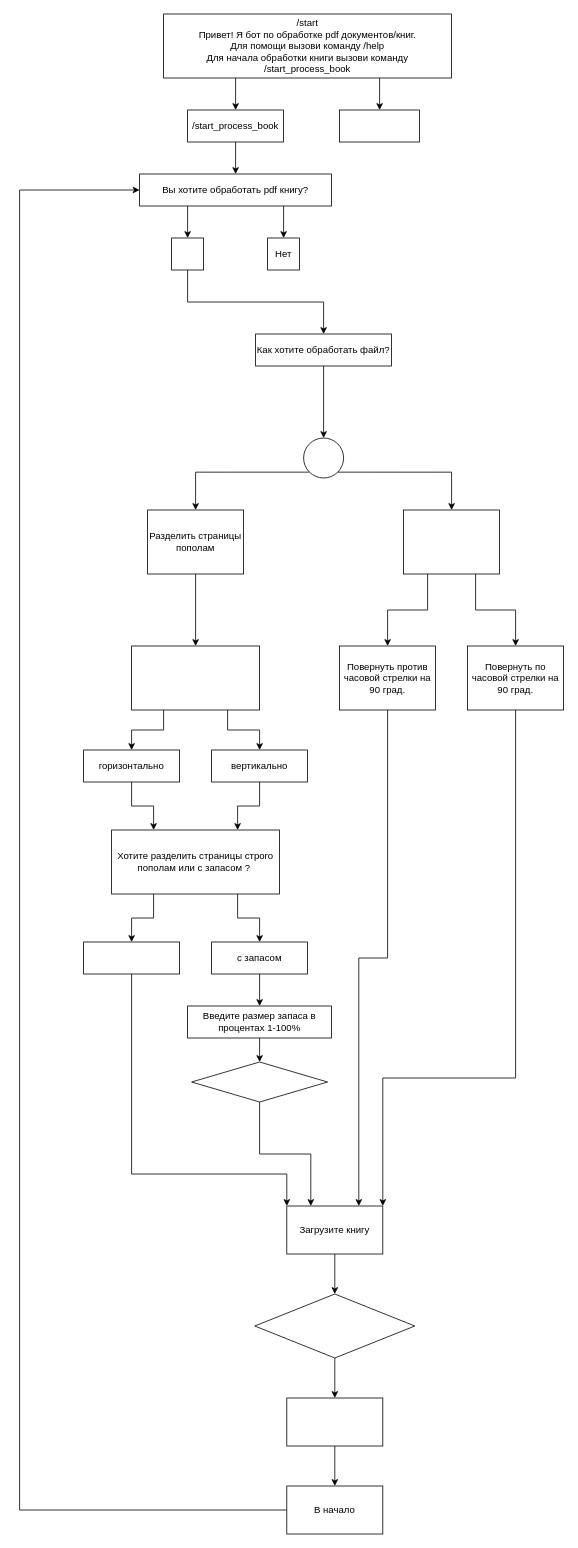
This 578x1548 diagram has some shape labels left out. The centre of each missing label's shape, as x and y in pixels:
"/help" belongs at point (379, 125).
"<Введено число>" belongs at point (259, 1081).
"Выгрузить книгу" belongs at point (334, 1421).
"Да" belongs at point (187, 253).
"Обработка книги" belongs at point (334, 1325).
"Повернуть страницы" belongs at point (451, 541).
"строго" belongs at point (131, 957).
"Хотите разделить страницы вертикально или горизонтально?" belongs at point (195, 677).
